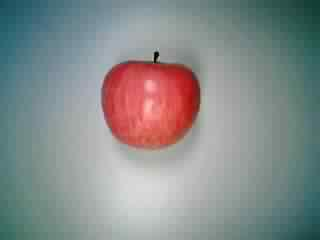apple: (100, 47, 205, 149)
